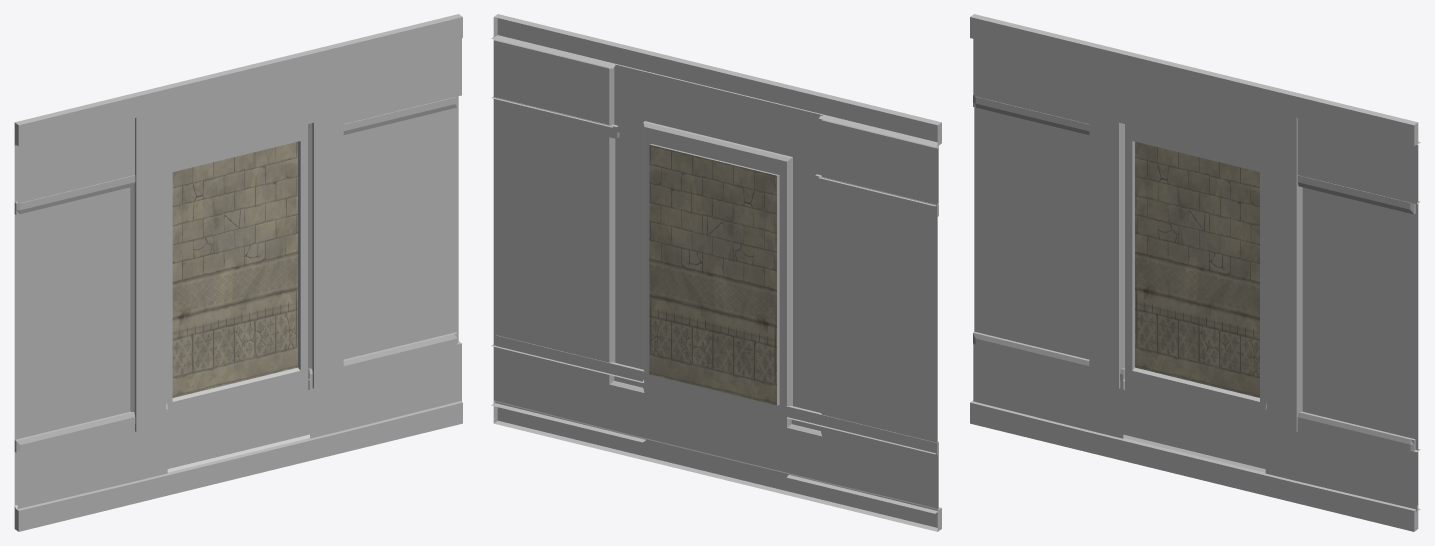
Rendered from M_Window_W_G_2.fbx.
The picture shows the model from 3 angles, left to right: view 1: azimuth 30°, elevation 25°; view 2: azimuth 150°, elevation 25°; view 3: azimuth 330°, elevation 25°; orthographic projection.
Visible parts, largest first — view 1: pPlane6, pCube13, pCube14, Door_Ornament4, Door_Ornament5; view 2: pPlane6, Door_Ornament4, Door_Ornament5, pCube13, pCube14; view 3: pPlane6, pCube13, pCube14, Door_Ornament4, Door_Ornament5.
Boxes of the visible parts, x1,y1,x2,y2 form: pPlane6: (14,14,462,531); pCube13: (17,341,461,508); pCube14: (17,38,461,203); Door_Ornament4: (14,332,457,452); Door_Ornament5: (14,96,457,214); pPlane6: (493,14,941,531); Door_Ornament4: (496,335,938,454); Door_Ornament5: (496,97,938,217); pCube13: (491,344,938,513); pCube14: (491,36,938,206); pPlane6: (970,14,1418,531); pCube13: (973,343,1420,511); pCube14: (973,39,1420,204); Door_Ornament4: (973,331,1415,451); Door_Ornament5: (973,95,1415,214).
Bounding box in the file's own units: 4.01 × 3.5 × 0.1046.
